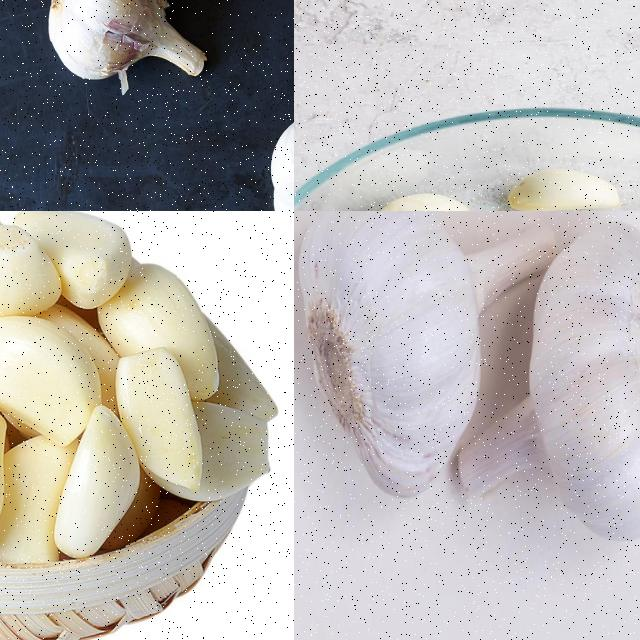garlic: (0, 211, 274, 560), (296, 211, 559, 501), (457, 215, 639, 545), (46, 0, 210, 93)
